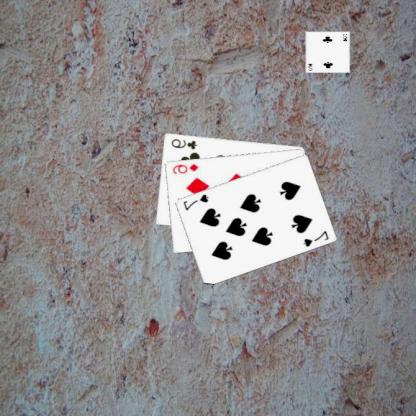6D: (172, 161, 202, 175)
7S: (182, 191, 212, 212), (302, 228, 332, 248)
9C: (170, 136, 200, 150)
